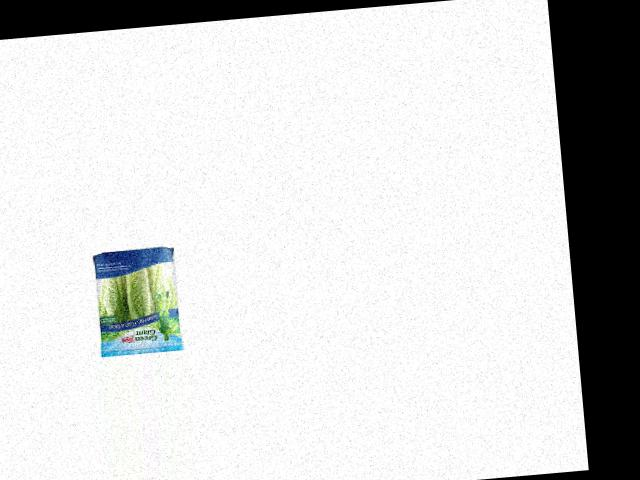lettuce: (90, 241, 185, 352)
